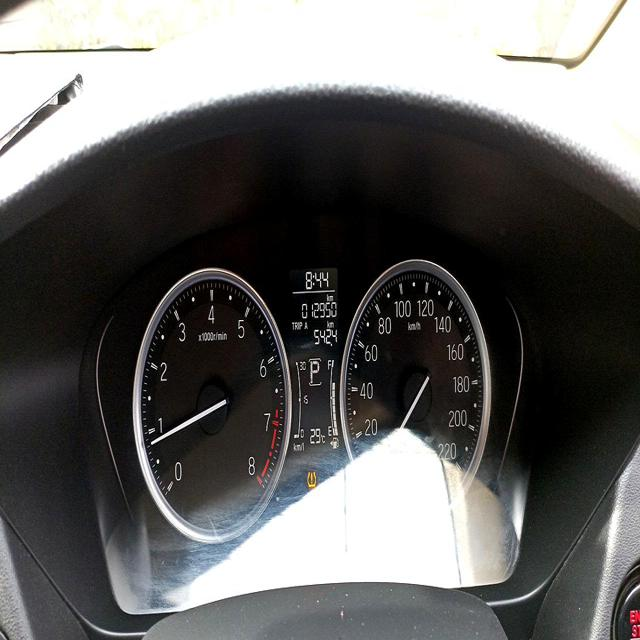odometer: (299, 299, 338, 321)
